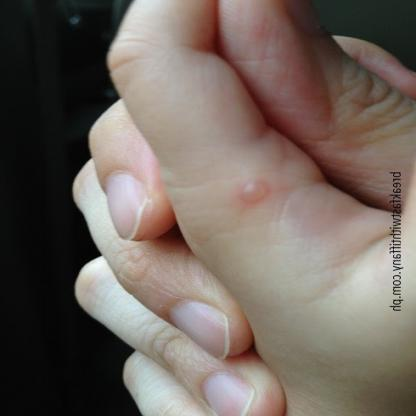Fire ant: (235, 177, 271, 208)
